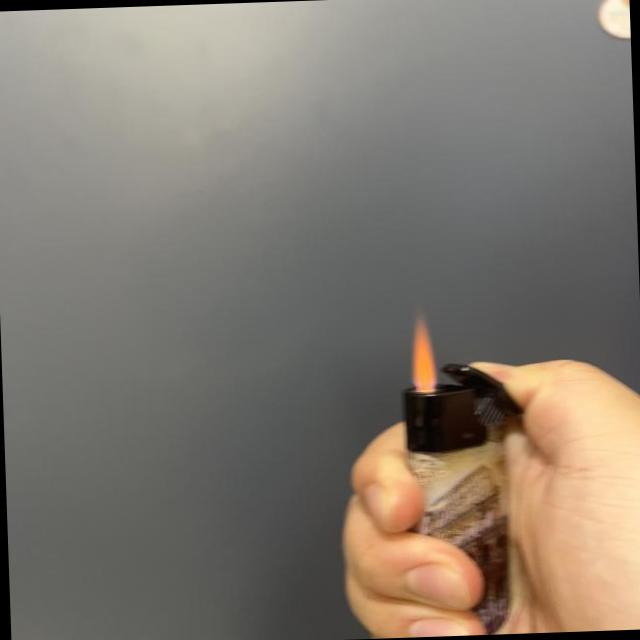Fire: (404, 316, 443, 392)
